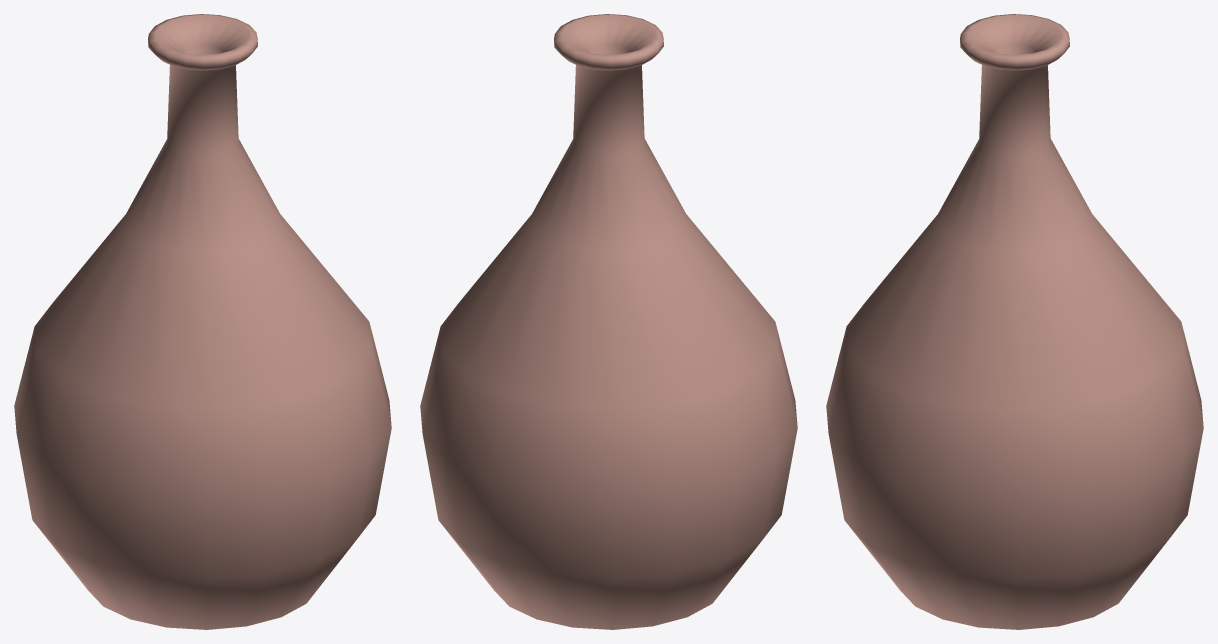
The model's file is tall_clay_vase.glb.
3 renders of one model, left to right at view 1: azimuth 30°, elevation 25°; view 2: azimuth 150°, elevation 25°; view 3: azimuth 270°, elevation 25°, orthographic.
Parts seen in each view (by area): view 1: Vase03; view 2: Vase03; view 3: Vase03.
Boxes of the visible parts, <box> form: Vase03: <box>14,14,391,629</box>; Vase03: <box>420,14,797,629</box>; Vase03: <box>826,14,1203,629</box>.
Size of what is drawn, in the model's own units: 1.18 by 1.86 by 1.16.
